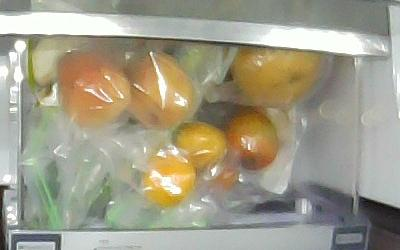peach_vinyl: (58, 51, 131, 124), (124, 56, 194, 131)
pear_vinyl: (230, 44, 322, 103)
tangerine_vinyl: (143, 151, 196, 206), (171, 122, 230, 166)
tomato_vinyl: (224, 109, 279, 169)
